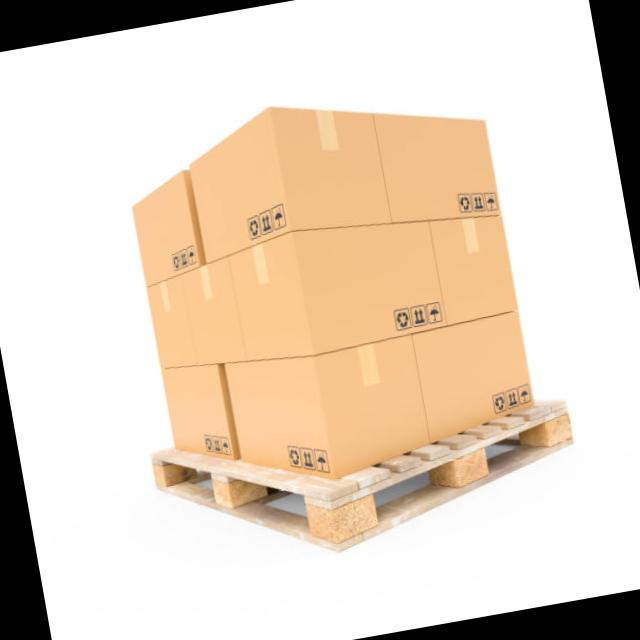Wooden-Pallets: (153, 399, 577, 554)
